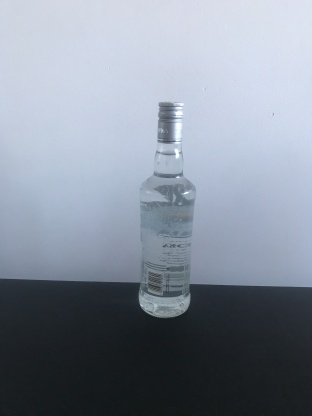nakretka: (156, 100, 184, 145)
